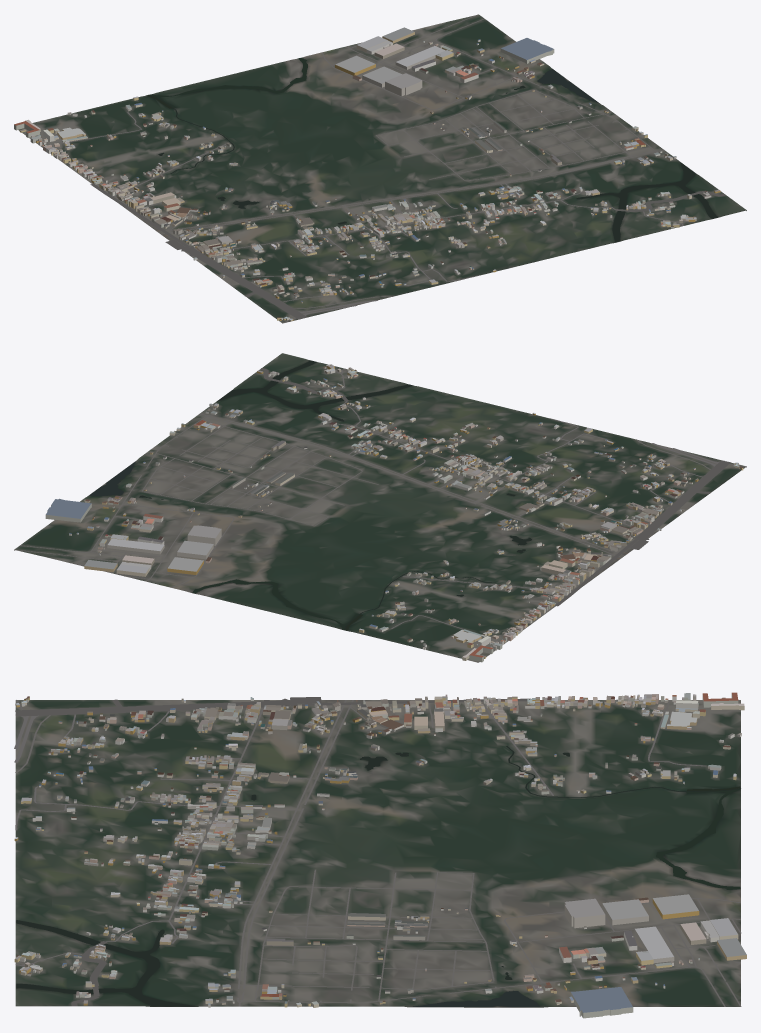
3 renders of one model, top to bottom at view 1: azimuth 30°, elevation 25°; view 2: azimuth 150°, elevation 25°; view 3: azimuth 270°, elevation 25°, orthographic. The views are drawn at different scales.
Visible parts, largest first — view 1: ground, buildings, roads, water; view 2: ground, buildings, roads, water; view 3: ground, buildings, roads, water.
Boxes of the visible parts, x1,y1,x2,y2 form: ground: (18, 15, 746, 322); buildings: (14, 27, 720, 321); roads: (41, 14, 725, 323); water: (146, 57, 718, 242); ground: (14, 353, 746, 662); buildings: (45, 364, 743, 662); roads: (14, 368, 746, 643); water: (89, 360, 531, 630); ground: (15, 700, 740, 1007); buildings: (14, 692, 746, 1018); roads: (14, 697, 741, 1006); water: (16, 746, 740, 1006).
Size of the model in its own units: 1466 by 27.46 by 1416.
